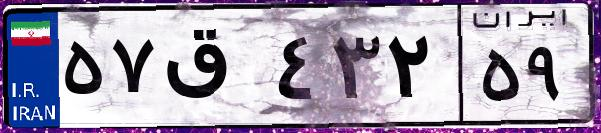2: (385, 28, 445, 110)
3: (330, 28, 385, 110)
4: (270, 28, 330, 110)
5: (57, 26, 110, 100), (475, 38, 525, 113)
7: (110, 28, 158, 98)
9: (525, 38, 570, 115)
ق: (158, 20, 270, 120)
